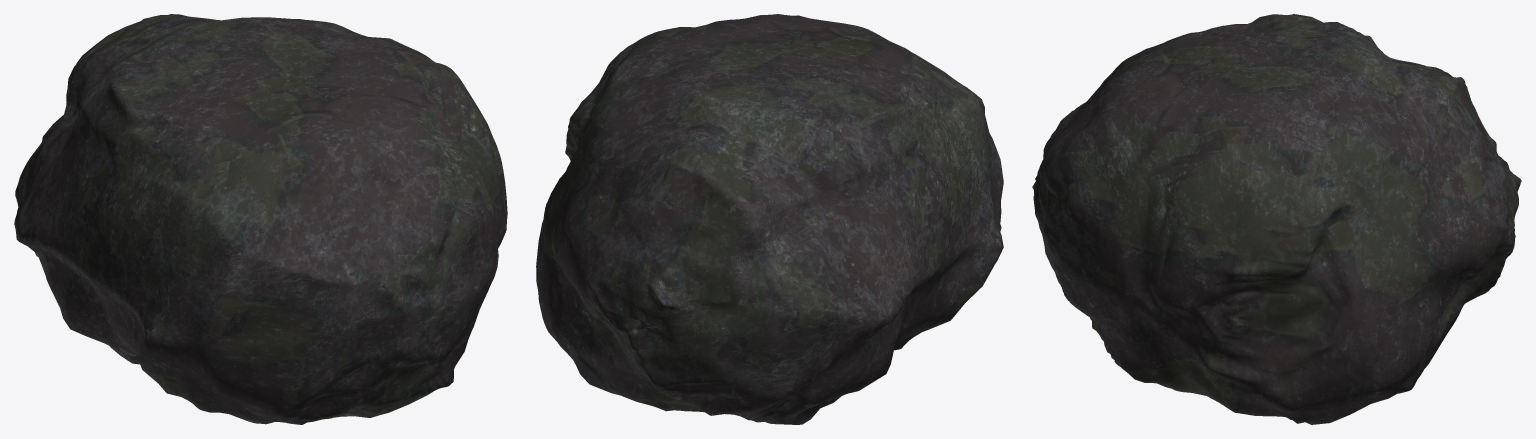
File: giga rock.fbx
3 renders of one model, left to right at view 1: azimuth 30°, elevation 25°; view 2: azimuth 150°, elevation 25°; view 3: azimuth 270°, elevation 25°, orthographic. The views are drawn at different scales.
Visible parts, largest first — view 1: pasted__pCube12; view 2: pasted__pCube12; view 3: pasted__pCube12.
Boxes of the visible parts, left/top/right/bottom form: pasted__pCube12: left=14, top=14, right=507, bottom=424; pasted__pCube12: left=536, top=14, right=1003, bottom=424; pasted__pCube12: left=1032, top=14, right=1521, bottom=424.
Bounding box in the file's own units: 891 × 768 × 1076.
